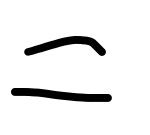eqv: (12, 36, 111, 103)
